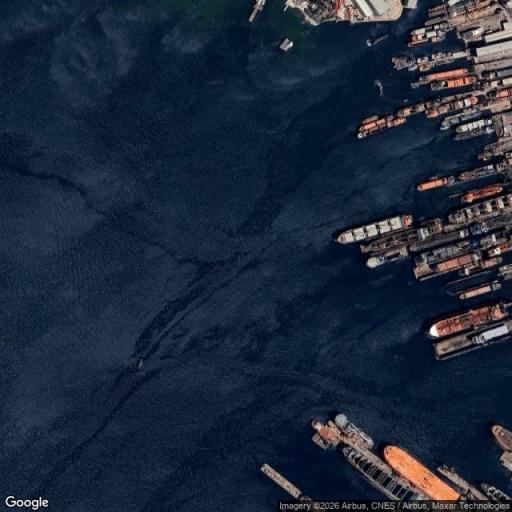ship: (343, 447, 427, 500), (384, 446, 459, 501), (261, 464, 325, 511), (434, 323, 511, 359), (428, 304, 507, 338), (414, 241, 481, 279), (336, 215, 412, 243), (449, 195, 511, 223), (409, 227, 469, 251), (415, 240, 471, 265), (335, 414, 374, 449), (440, 97, 481, 130), (412, 68, 467, 87), (358, 116, 405, 138), (470, 212, 511, 235), (398, 97, 442, 117), (367, 246, 408, 267), (459, 257, 502, 276), (461, 184, 503, 203), (459, 281, 501, 299), (458, 164, 498, 181), (431, 76, 476, 91), (480, 228, 511, 248), (417, 176, 455, 191), (455, 126, 494, 140), (456, 119, 492, 134), (481, 484, 511, 502), (392, 55, 417, 71), (248, 0, 266, 22), (488, 240, 511, 257), (367, 34, 388, 47), (459, 110, 481, 122), (411, 24, 434, 35), (490, 88, 511, 98), (425, 15, 446, 25), (499, 264, 511, 280), (429, 8, 446, 18), (280, 38, 293, 51), (428, 3, 446, 12), (408, 39, 428, 47), (375, 80, 383, 95), (436, 59, 455, 65), (432, 52, 445, 59), (420, 63, 431, 71), (417, 57, 429, 63), (137, 358, 143, 369)
